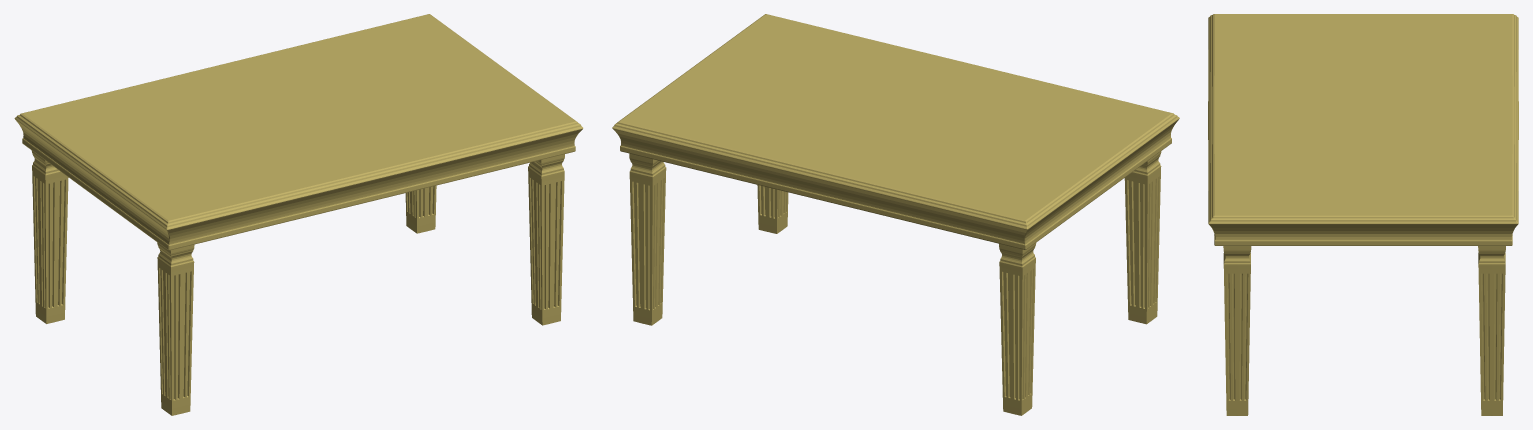
The model's file is DiningSet_Gen_2_Table.fbx.
The picture shows the model from 3 angles, left to right: view 1: azimuth 30°, elevation 25°; view 2: azimuth 150°, elevation 25°; view 3: azimuth 270°, elevation 25°; orthographic projection.
Parts seen in each view (by area): view 1: mesh_table; view 2: mesh_table; view 3: mesh_table.
Boxes of the visible parts, x1,y1,x2,y2 form: mesh_table: (14, 14, 583, 415); mesh_table: (612, 14, 1179, 415); mesh_table: (1208, 14, 1518, 415).
Bounding box in the file's own units: 164 × 75.71 × 104.
